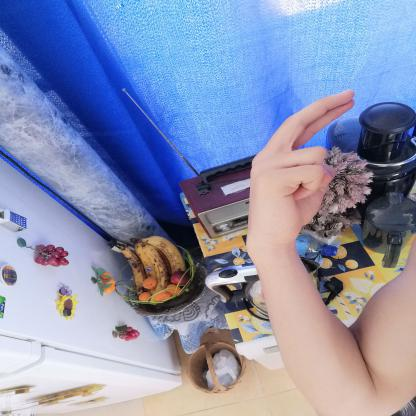ZAY: (236, 82, 364, 254)
